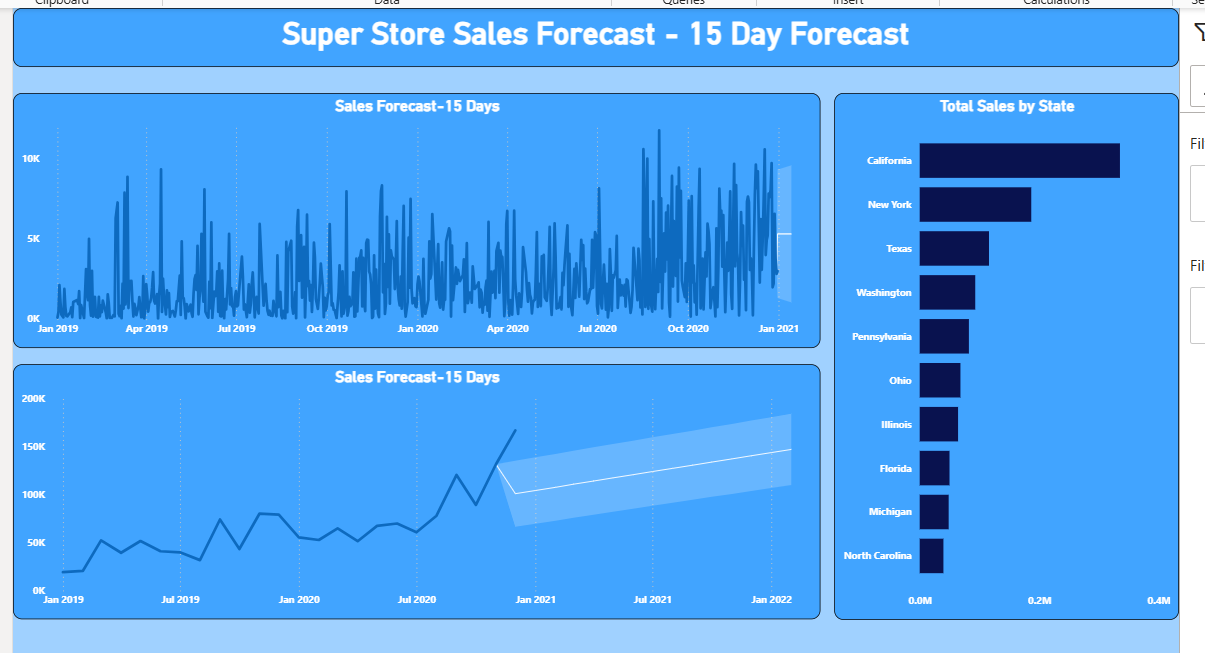

What the dashboard file says about the page in this screenshot:
{"tool":"powerbi","page":{"name":"Sales Forecast","canvas":[1280,720],"ordinal":1},"visuals":[{"type":"lineChart","title":"Sales Forecast-15 Days","fields":{"Y":["Sum(SuperStore_Sales_Dataset (2).Sales)"],"Category":["SuperStore_Sales_Dataset (2).Order Date.Variation.Date Hierarchy.Year","SuperStore_Sales_Dataset (2).Order Date.Variation.Date Hierarchy.Month","SuperStore_Sales_Dataset (2).Order Date.Variation.Date Hierarchy.Day"]},"box":[0,93.3,886.7,280],"z":0},{"type":"lineChart","title":"Sales Forecast-15 Days","fields":{"Y":["Sum(SuperStore_Sales_Dataset (2).Sales)"],"Category":["SuperStore_Sales_Dataset (2).Order Date.Variation.Date Hierarchy.Year","SuperStore_Sales_Dataset (2).Order Date.Variation.Date Hierarchy.Month"]},"box":[0,391.7,886.7,280],"z":1},{"type":"textbox","box":[0,0,1280,65],"z":3},{"type":"clusteredBarChart","title":"Total Sales by State","fields":{"Category":["SuperStore_Sales_Dataset (2).State"],"Y":["Sum(SuperStore_Sales_Dataset (2).Sales)"]},"box":[901.7,93.3,378.3,578.3],"z":4}]}

Visuals, with their boxes on the page's 1280x720 design canvas (x1, y1, x2, y2). These are canvas units, not pixel positions in the 1205x653 screenshot, which may show the page scaled, cropped or inside an application window:
"Sales Forecast-15 Days" lineChart: bbox(0, 93, 887, 373)
"Sales Forecast-15 Days" lineChart: bbox(0, 392, 887, 672)
textbox: bbox(0, 0, 1280, 65)
"Total Sales by State" clusteredBarChart: bbox(902, 93, 1280, 672)
